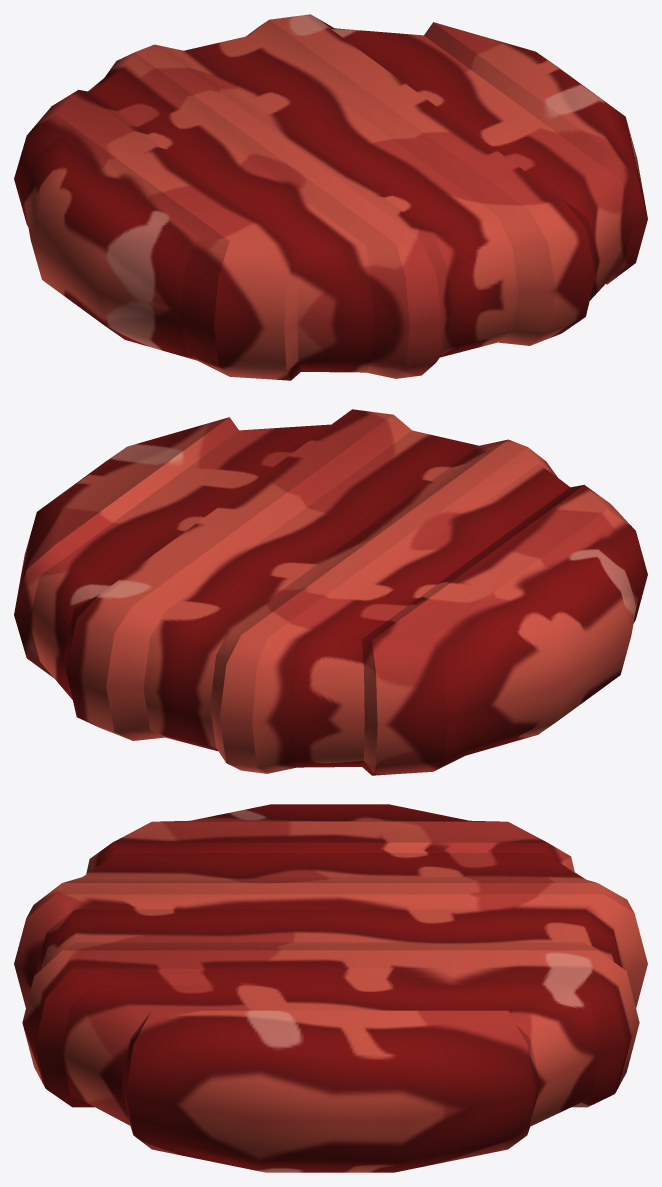
The model's file is Beef_Meat_01_Patty_Raw.fbx.
3 views of the same model, one above another, from view 1: azimuth 30°, elevation 25°; view 2: azimuth 150°, elevation 25°; view 3: azimuth 270°, elevation 25° (orthographic). The views are drawn at different scales.
Visible parts, largest first — view 1: Beef_Meat_01_Patty_Raw; view 2: Beef_Meat_01_Patty_Raw; view 3: Beef_Meat_01_Patty_Raw.
Boxes of the visible parts, x1,y1,x2,y2 form: Beef_Meat_01_Patty_Raw: (14, 14, 647, 380); Beef_Meat_01_Patty_Raw: (14, 409, 647, 775); Beef_Meat_01_Patty_Raw: (14, 804, 647, 1172).
Size of the model in its own units: 28.23 by 6.79 by 28.09.
